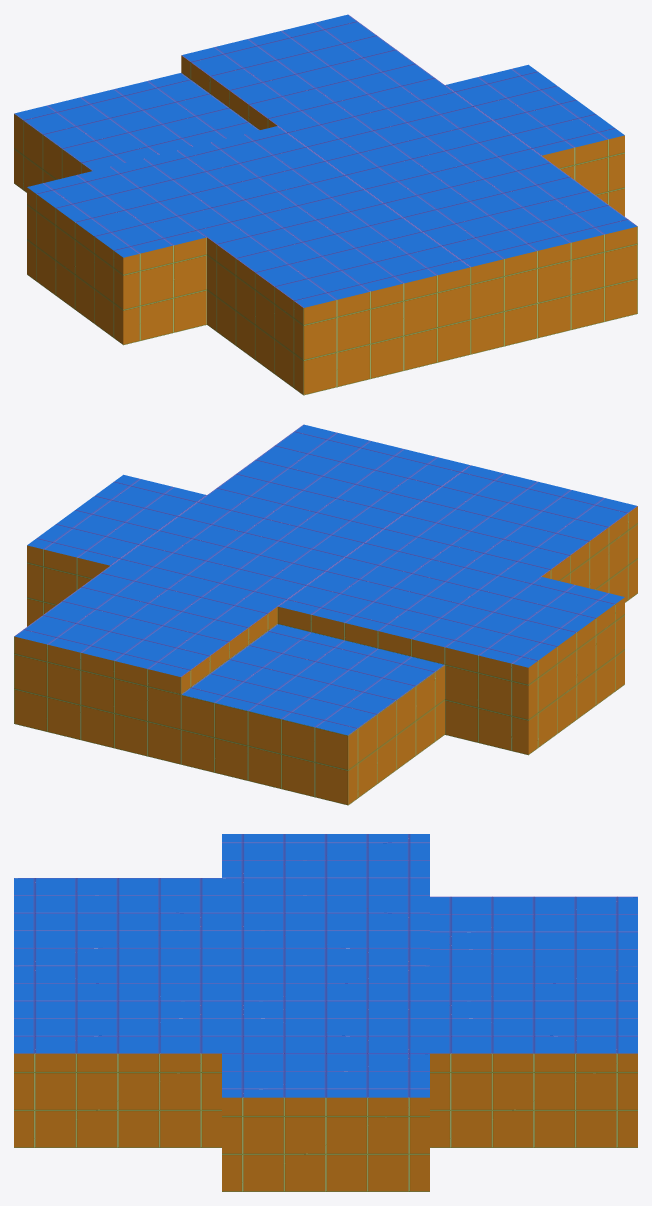
File: testmap.dae
3 views of the same model, one above another, from view 1: azimuth 30°, elevation 25°; view 2: azimuth 150°, elevation 25°; view 3: azimuth 270°, elevation 25° (orthographic). The views are drawn at different scales.
Visible parts, largest first — view 1: Map; view 2: Map; view 3: Map.
Part boxes in pixels (box(x1,y1,x2,y2)): Map: box(14, 14, 637, 395); Map: box(14, 424, 637, 805); Map: box(14, 834, 637, 1191).
Bounding box in the file's own units: 6000 × 1000 × 6000.
